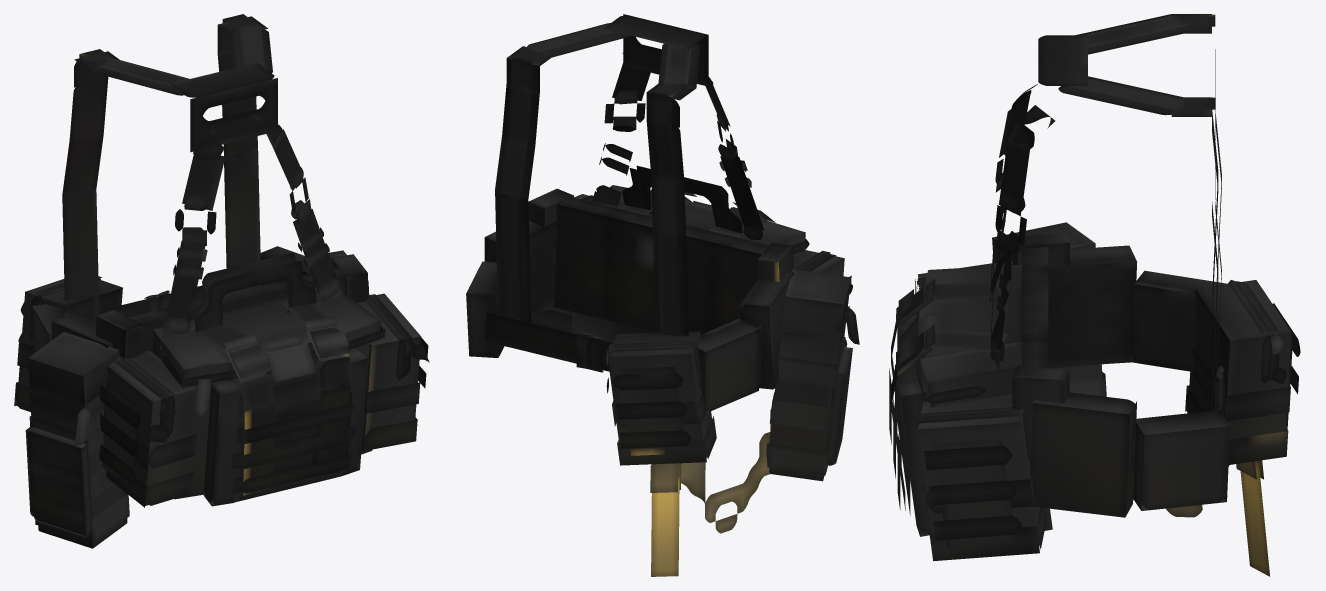
Rendered from supply_rig.obj.
3 views of the same model, side by side, from view 1: azimuth 30°, elevation 25°; view 2: azimuth 150°, elevation 25°; view 3: azimuth 270°, elevation 25° (orthographic). The views are drawn at different scales.
Parts seen in each view (by area): view 1: supply_rig; view 2: supply_rig; view 3: supply_rig.
Part boxes in pixels (x1=…): supply_rig: x1=14, y1=14, x2=429, y2=548; supply_rig: x1=466, y1=14, x2=859, y2=576; supply_rig: x1=889, y1=14, x2=1300, y2=576.
Size of the model in its own units: 0.8155 by 1.06 by 0.7218.
